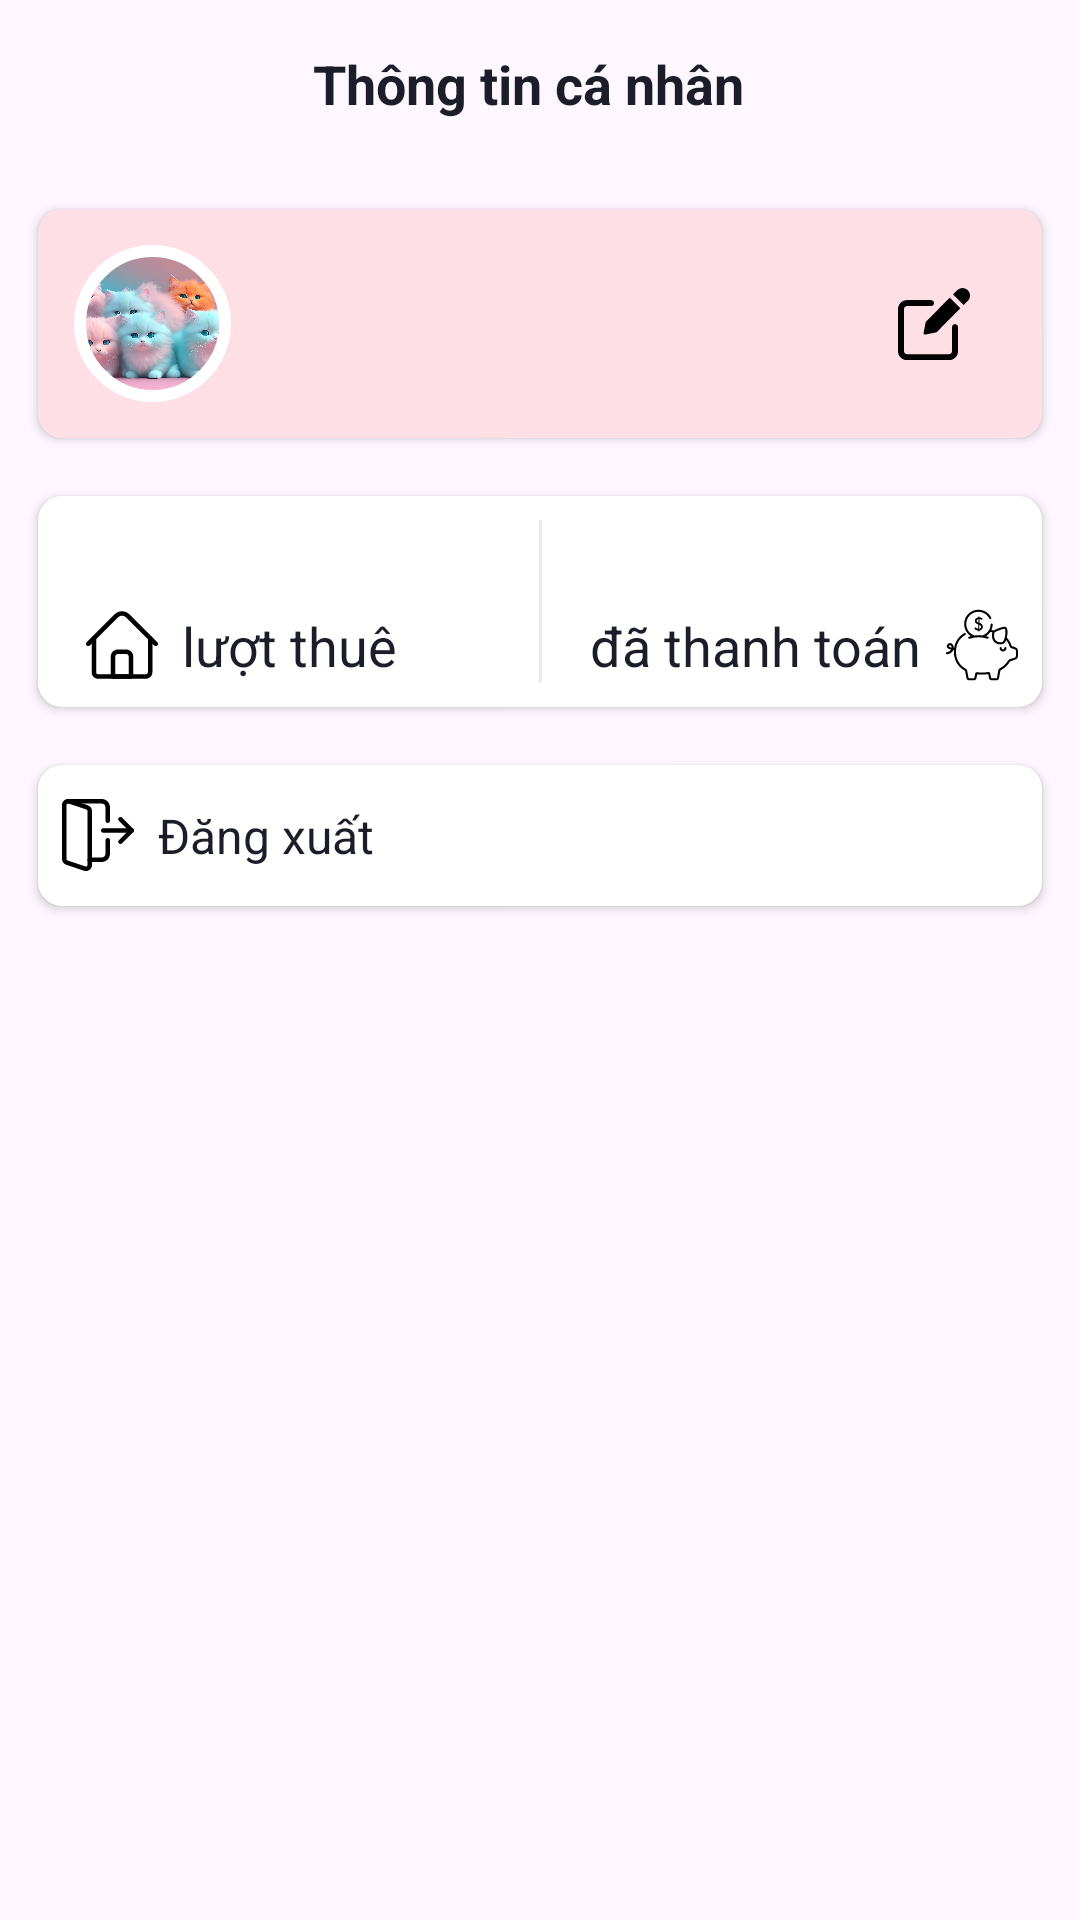

Named icons in this screenshot (1080px x 1920px) and their bounding boxes, (x1, y1, x2, y2):
cute cat: (74, 245, 231, 402)
edit: (898, 288, 970, 360)
